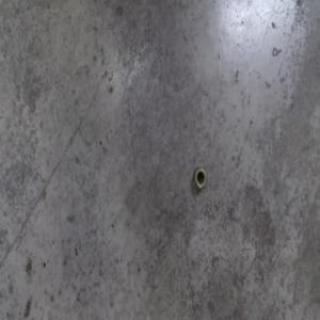Nuttrack_idkeyframe: (193, 165, 206, 190)
